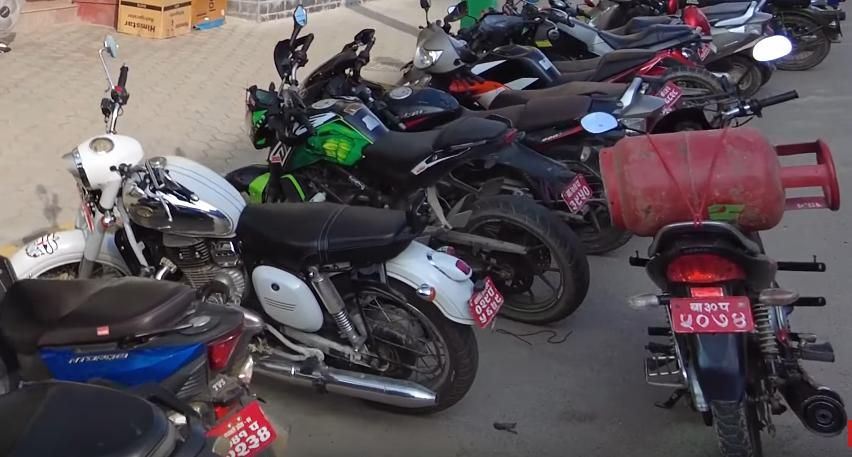bike: (5, 37, 505, 417), (579, 83, 849, 457)
